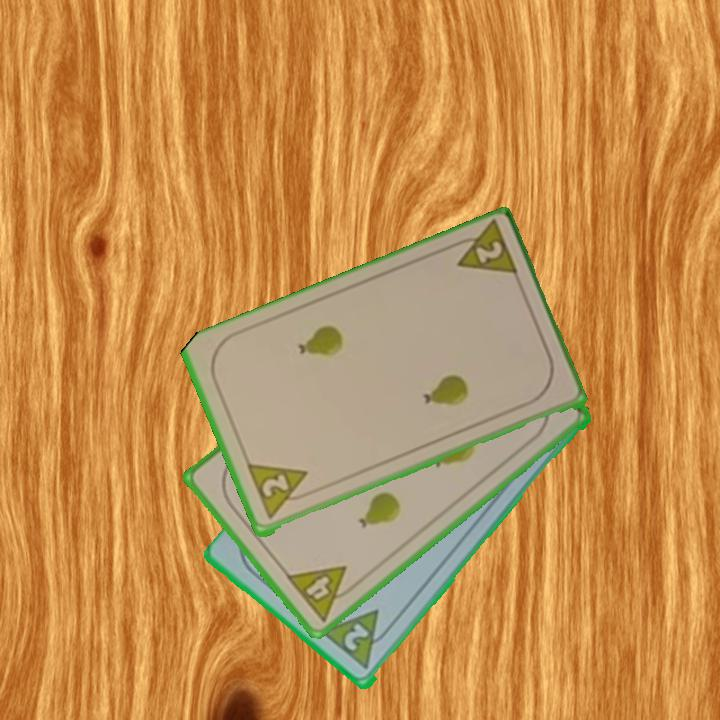2p: (444, 219, 522, 282), (244, 461, 316, 523), (340, 620, 373, 655)
4p: (282, 562, 362, 625)
